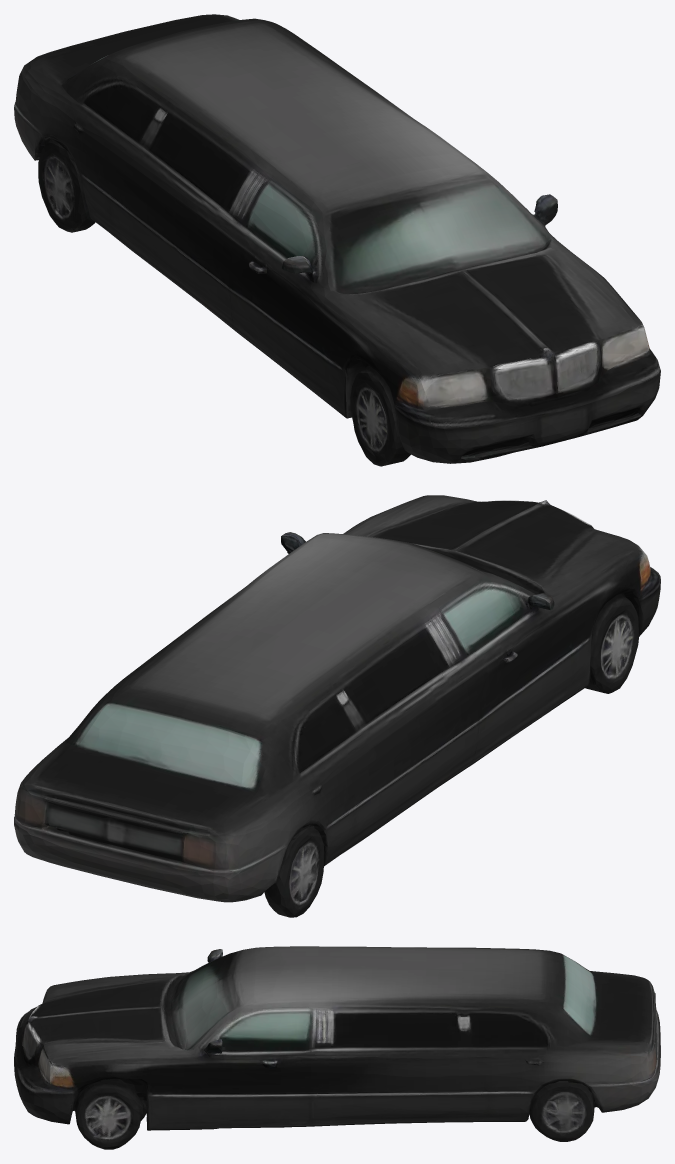
3 views of the same model, one above another, from view 1: azimuth 30°, elevation 25°; view 2: azimuth 150°, elevation 25°; view 3: azimuth 270°, elevation 25° (orthographic). The views are drawn at different scales.
Parts seen in each view (by area): view 1: geometry_0; view 2: geometry_0; view 3: geometry_0.
Part boxes in pixels (bbox=[...]): geometry_0: bbox=[14, 14, 660, 466]; geometry_0: bbox=[14, 495, 660, 917]; geometry_0: bbox=[14, 946, 660, 1149].
Size of the model in its own units: 0.3529 by 0.2339 by 0.9992.
Materials: 1 (1 with a texture image).
